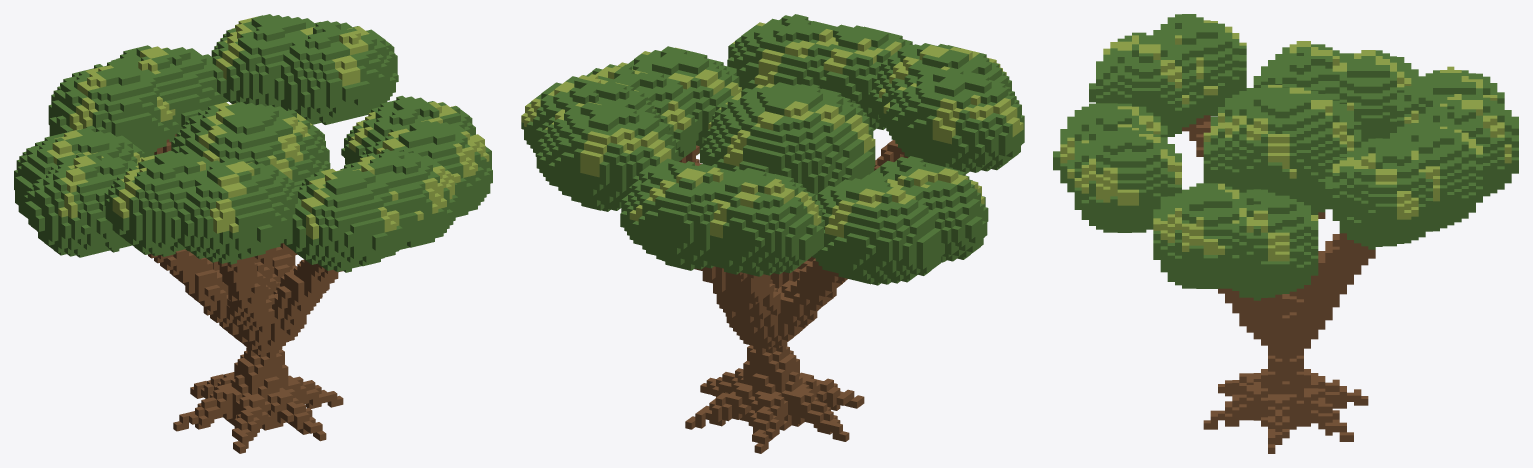
The model's file is ENV-057.glb.
3 views of the same model, side by side, from view 1: azimuth 30°, elevation 25°; view 2: azimuth 150°, elevation 25°; view 3: azimuth 270°, elevation 25° (orthographic). The views are drawn at different scales.
Parts seen in each view (by area): view 1: 阔叶分枝与开阔树冠母版; view 2: 阔叶分枝与开阔树冠母版; view 3: 阔叶分枝与开阔树冠母版.
Boxes of the visible parts, x1,y1,x2,y2 form: 阔叶分枝与开阔树冠母版: (14, 14, 492, 453); 阔叶分枝与开阔树冠母版: (521, 14, 1024, 453); 阔叶分枝与开阔树冠母版: (1053, 14, 1518, 453).
Bounding box in the file's own units: 13.6 × 10 × 13.
3 materials, 3 textured.
